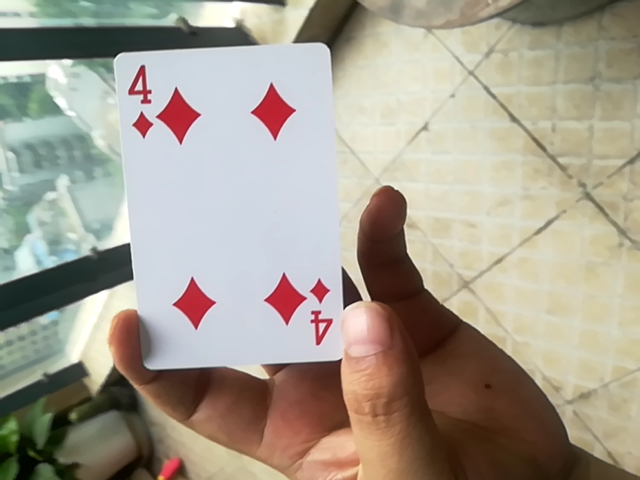fk 4: (105, 43, 351, 375)
